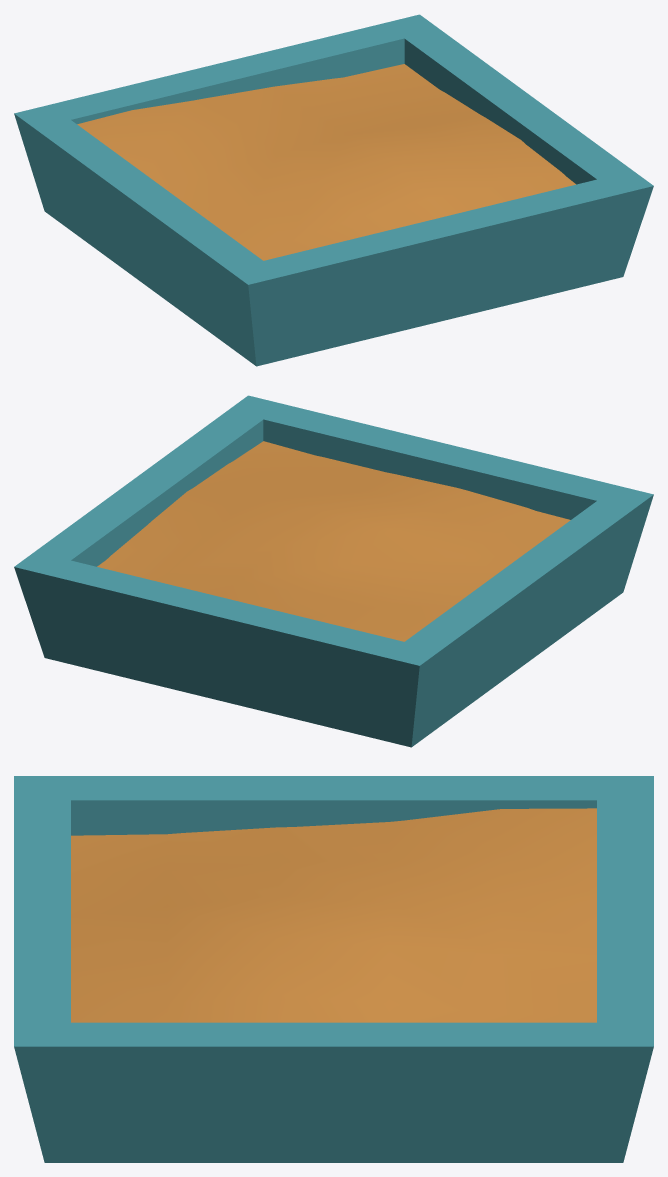
The model's file is Sandbox.fbx.
3 views of the same model, one above another, from view 1: azimuth 30°, elevation 25°; view 2: azimuth 150°, elevation 25°; view 3: azimuth 270°, elevation 25° (orthographic). The views are drawn at different scales.
Visible parts, largest first — view 1: Sandbox; view 2: Sandbox; view 3: Sandbox.
Part boxes in pixels (left/top/right/bottom): Sandbox: left=14, top=14, right=653, bottom=366; Sandbox: left=14, top=395, right=653, bottom=747; Sandbox: left=14, top=776, right=653, bottom=1162.
Bounding box in the file's own units: 382 × 85.13 × 382.
